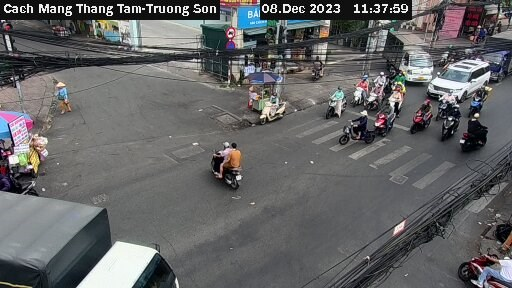car: (429, 52, 492, 105)
motorbike: (204, 139, 256, 194), (464, 239, 512, 288), (256, 92, 293, 128), (321, 84, 357, 115), (375, 103, 405, 138), (468, 85, 496, 122), (465, 117, 489, 157), (414, 99, 437, 133), (436, 85, 460, 117), (439, 106, 460, 139), (382, 89, 408, 114), (360, 84, 383, 110)
truck: (1, 176, 188, 288), (380, 29, 433, 84), (477, 30, 512, 78)
